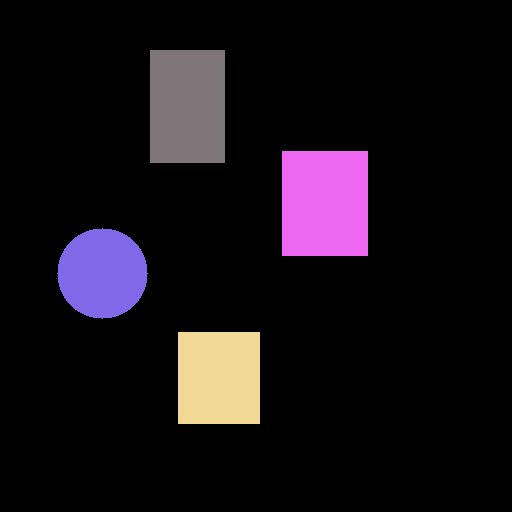circle: (57, 228, 147, 318)
rectangle: (282, 151, 367, 255), (150, 50, 224, 162), (178, 332, 259, 423)
